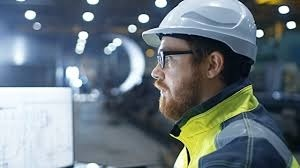helmet: (141, 1, 265, 52)
person with partial safety: (141, 1, 295, 168)
